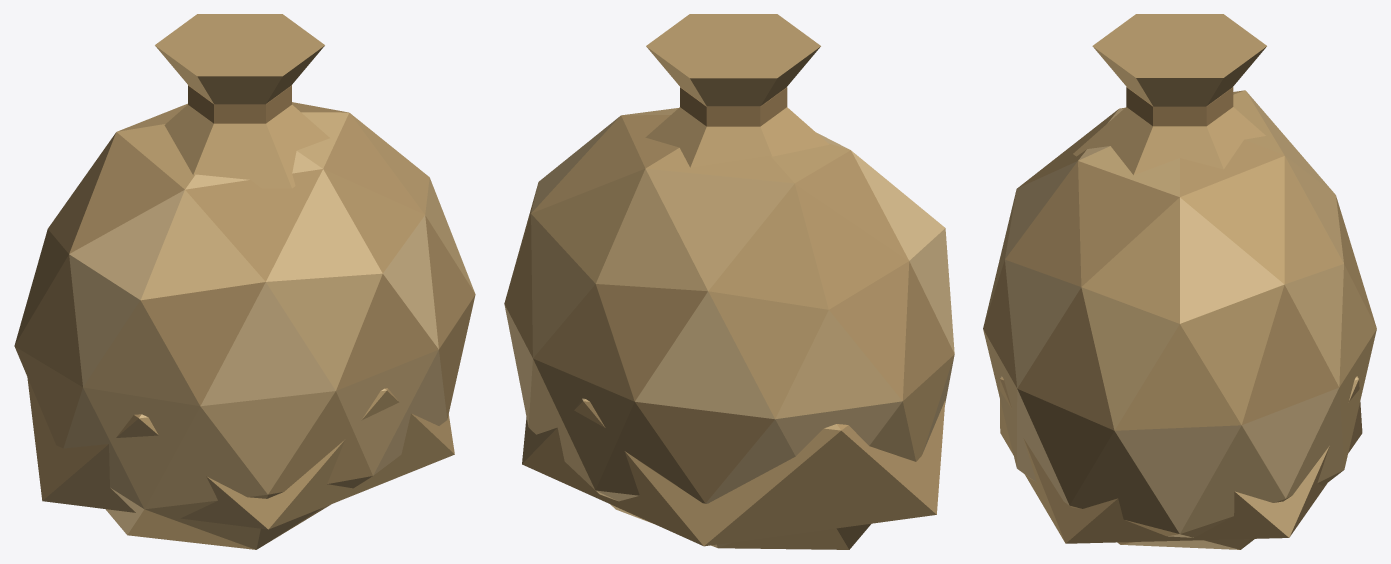
File: sack.glb
3 renders of one model, left to right at view 1: azimuth 30°, elevation 25°; view 2: azimuth 150°, elevation 25°; view 3: azimuth 270°, elevation 25°, orthographic. The views are drawn at different scales.
Parts seen in each view (by area): view 1: Cloth, Rope; view 2: Cloth, Rope; view 3: Cloth, Rope.
Part boxes in pixels (box(x1,y1,x2,y2)): Cloth: box(14, 14, 475, 549); Rope: box(188, 85, 291, 123); Cloth: box(504, 14, 954, 549); Rope: box(680, 87, 787, 126); Cloth: box(983, 14, 1376, 549); Rope: box(1126, 87, 1233, 126).
Bounding box in the file's own units: 1.47 × 1.67 × 1.22.
Materials: 2 (2 with a texture image).
